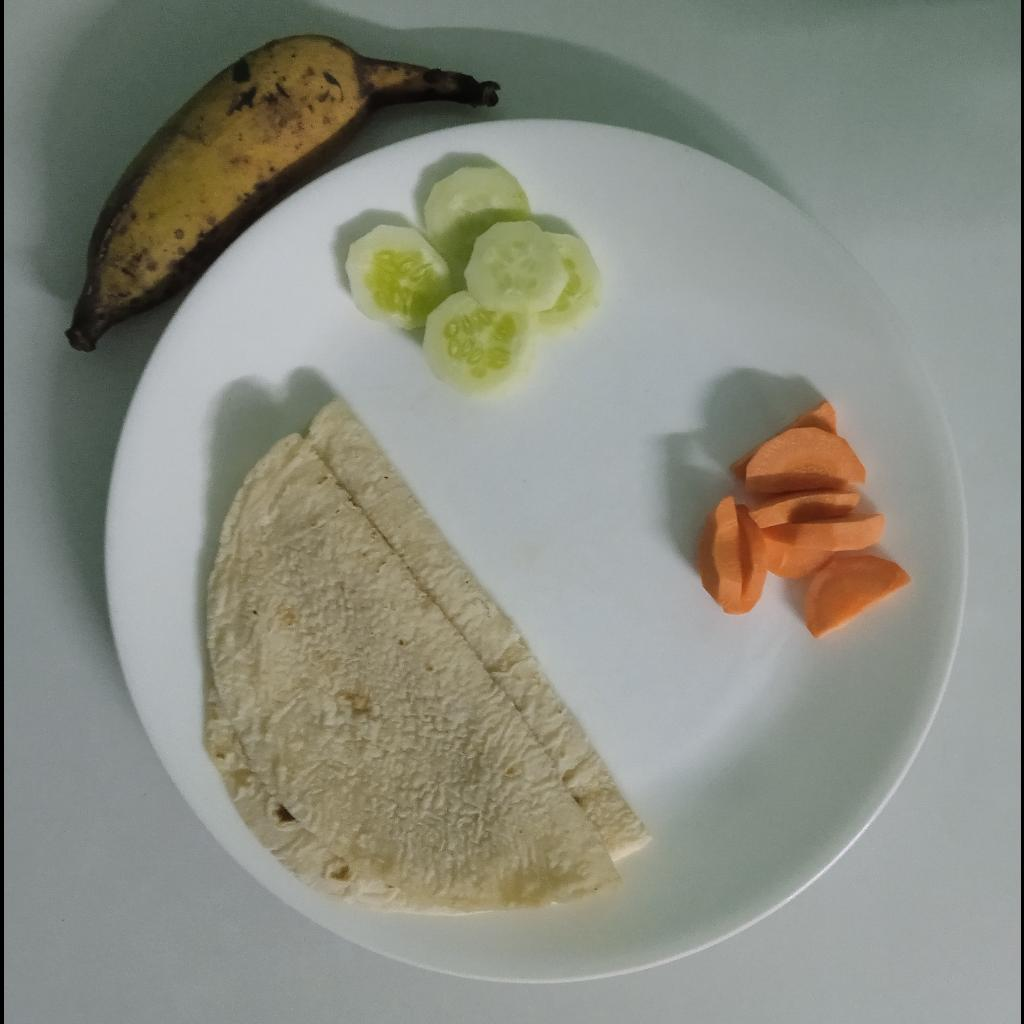banana: (64, 35, 503, 356)
carrot: (695, 394, 914, 640)
cucumber: (348, 165, 603, 397)
ruti: (203, 389, 652, 916)
